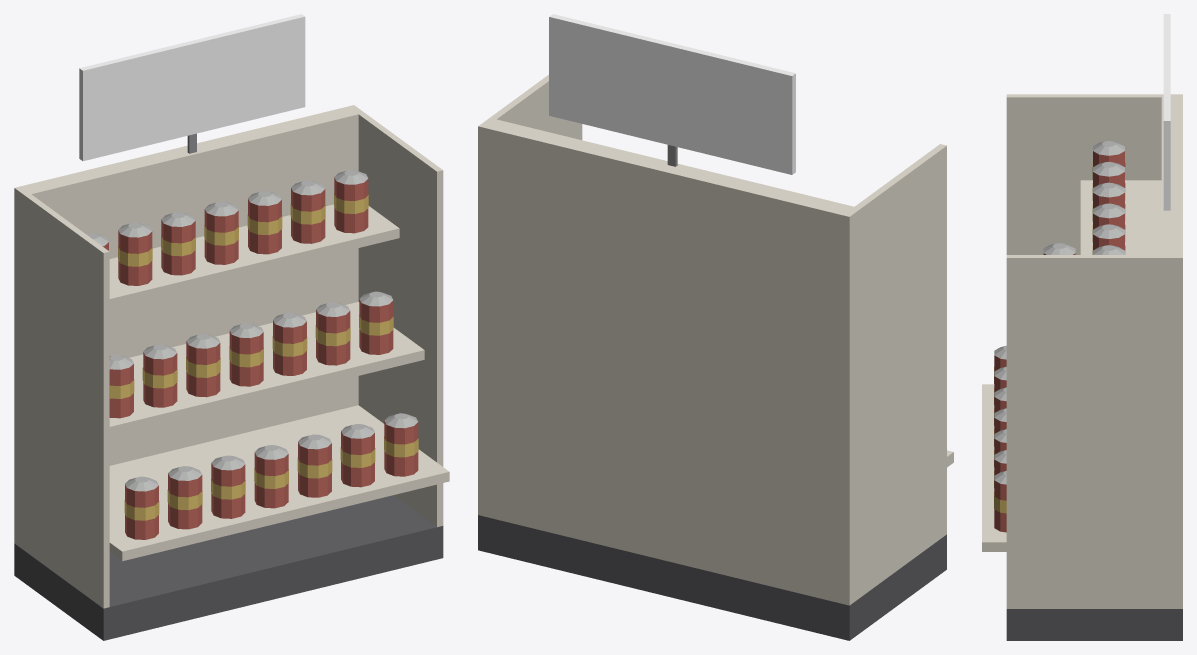
File: endcap_oil.glb
3 views of the same model, side by side, from view 1: azimuth 30°, elevation 25°; view 2: azimuth 150°, elevation 25°; view 3: azimuth 270°, elevation 25° (orthographic). The views are drawn at different scales.
Parts seen in each view (by area): view 1: NC_endcap_oil; view 2: NC_endcap_oil; view 3: NC_endcap_oil.
Boxes of the visible parts, box(x1,y1,x2,y2) form: NC_endcap_oil: box(14, 14, 449, 640); NC_endcap_oil: box(478, 14, 953, 640); NC_endcap_oil: box(982, 14, 1182, 640).
Bounding box in the file's own units: 1.1 × 1.54 × 0.57.
